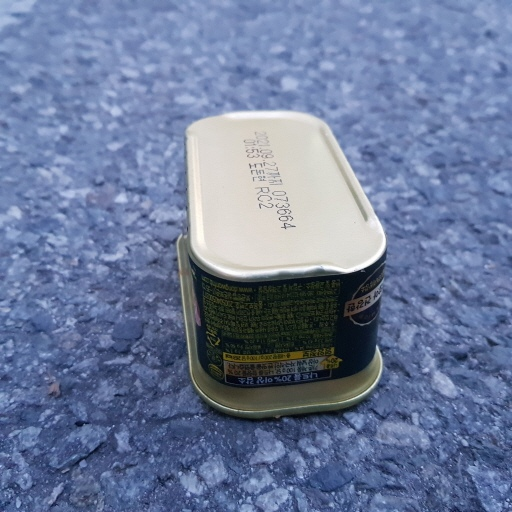Metal_2: (173, 106, 388, 424)
